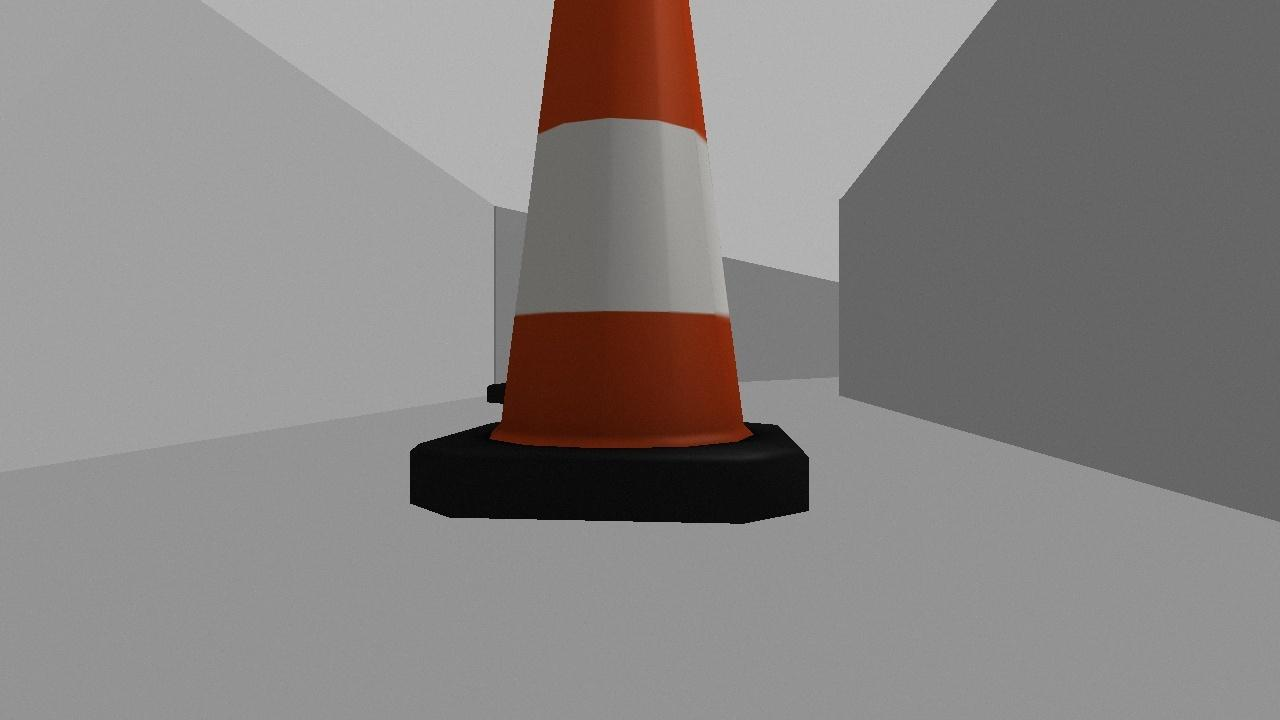cone_barrel: (408, 0, 811, 523)
